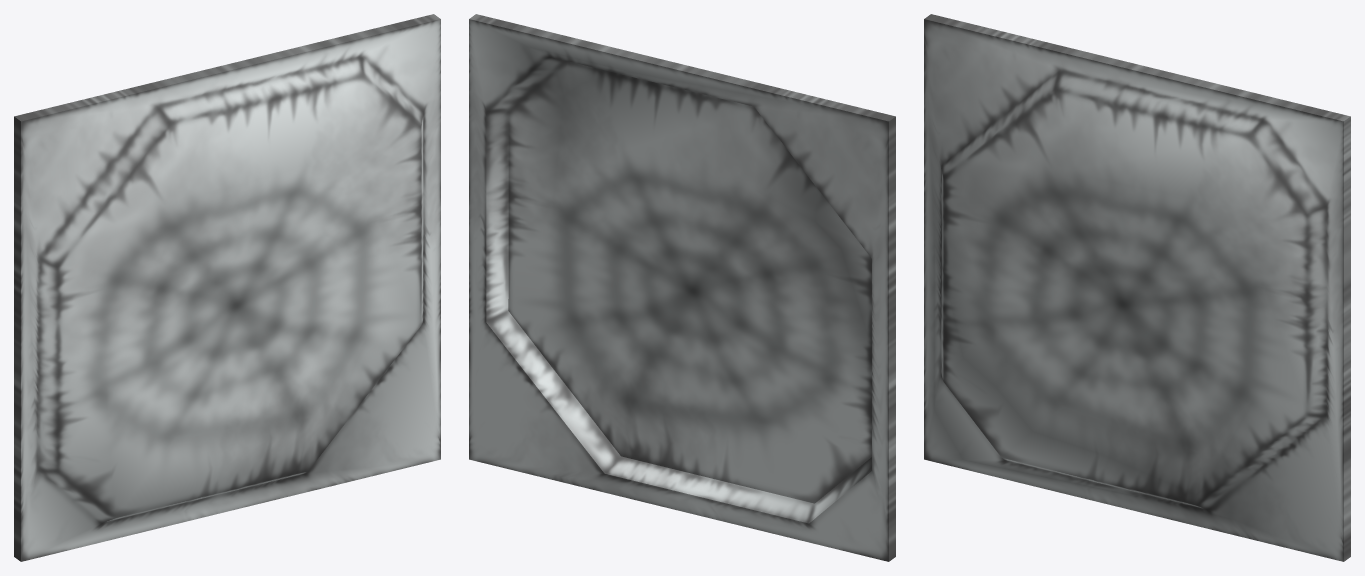
File: brokenwall1a.fbx
3 renders of one model, left to right at view 1: azimuth 30°, elevation 25°; view 2: azimuth 150°, elevation 25°; view 3: azimuth 330°, elevation 25°, orthographic.
Parts seen in each view (by area): view 1: brokenwall1, obj15, obj21, obj9, obj3, obj18, obj12, obj6, obj24, obj14, obj20, obj8 (+13 smaller); view 2: brokenwall1, obj15, obj21, obj9, obj3, obj18, obj12, obj6, obj24, obj14, obj20, obj8 (+13 smaller); view 3: brokenwall1, obj15, obj21, obj9, obj3, obj18, obj12, obj6, obj24, obj14, obj20, obj8 (+13 smaller).
Part boxes in pixels (left/top/right/bottom): brokenwall1: left=14, top=14, right=440, bottom=561; obj15: left=177, top=367, right=314, bottom=437; obj21: left=105, top=260, right=169, bottom=385; obj9: left=323, top=215, right=376, bottom=331; obj3: left=176, top=165, right=307, bottom=235; obj18: left=106, top=353, right=201, bottom=437; obj12: left=287, top=323, right=369, bottom=415; obj6: left=288, top=165, right=376, bottom=246; obj24: left=122, top=204, right=201, bottom=271; obj14: left=202, top=335, right=286, bottom=392; obj20: left=158, top=271, right=201, bottom=352; obj8: left=287, top=247, right=324, bottom=323; brokenwall1: left=469, top=14, right=895, bottom=561; obj15: left=615, top=353, right=752, bottom=422; obj21: left=760, top=245, right=824, bottom=370; obj9: left=553, top=200, right=605, bottom=316; obj3: left=622, top=150, right=753, bottom=220; obj18: left=728, top=339, right=823, bottom=422; obj12: left=560, top=309, right=642, bottom=401; obj6: left=553, top=151, right=641, bottom=231; obj24: left=728, top=189, right=807, bottom=256; obj14: left=643, top=321, right=727, bottom=377; obj20: left=727, top=257, right=771, bottom=338; obj8: left=605, top=232, right=642, bottom=308; brokenwall1: left=924, top=14, right=1350, bottom=561; obj15: left=1063, top=374, right=1201, bottom=452; obj21: left=992, top=203, right=1055, bottom=320; obj9: left=1210, top=282, right=1262, bottom=394; obj3: left=1063, top=172, right=1193, bottom=237; obj18: left=992, top=313, right=1088, bottom=406; obj12: left=1173, top=365, right=1255, bottom=452; obj6: left=1174, top=199, right=1262, bottom=288; obj24: left=1008, top=172, right=1088, bottom=236; obj14: left=1089, top=341, right=1173, bottom=390; obj20: left=1044, top=237, right=1088, bottom=313; obj8: left=1173, top=288, right=1210, bottom=364.
Bounding box in the file's own units: 168 × 169 × 10.59.
